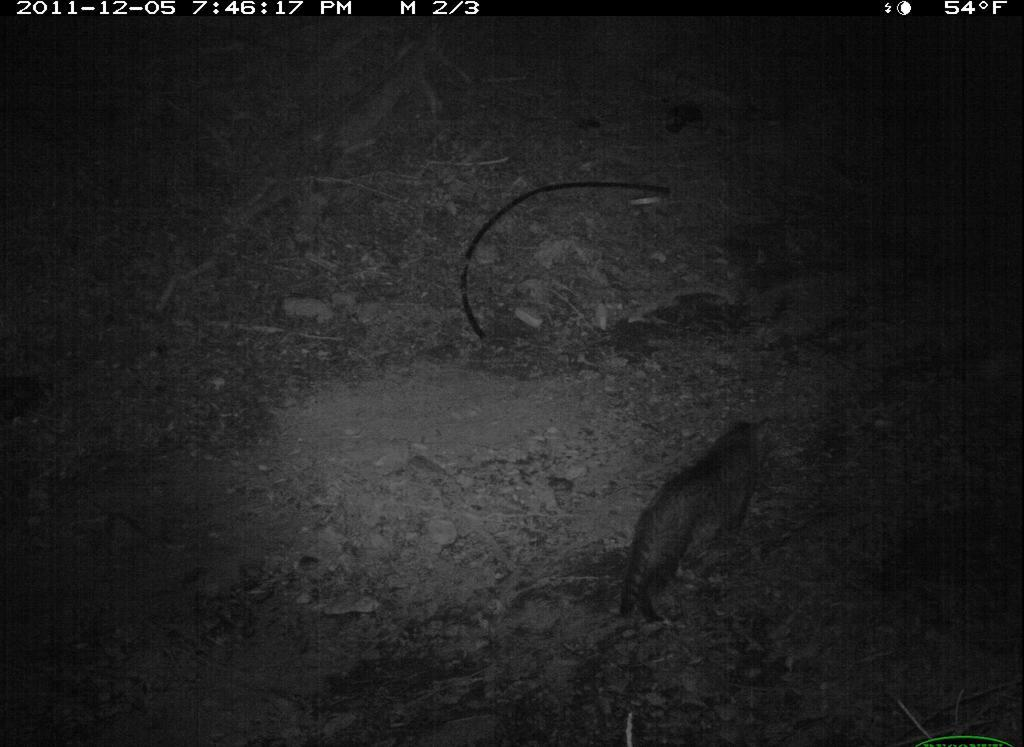cat: (594, 402, 781, 616)
